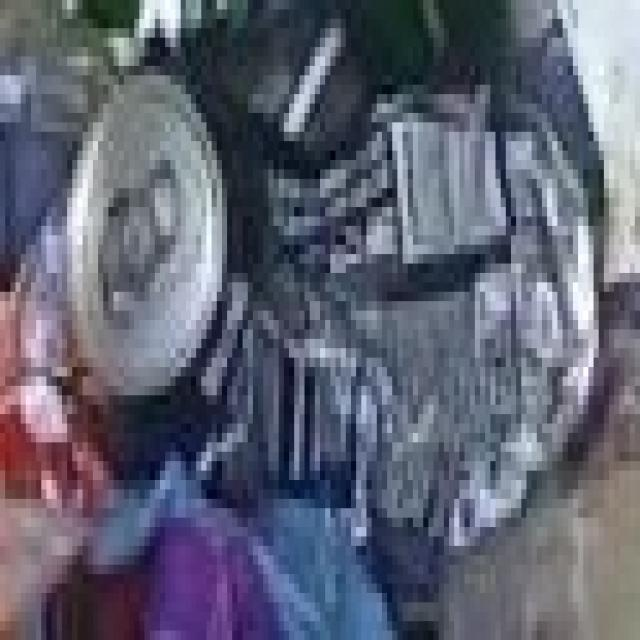litter: (56, 23, 632, 543)
